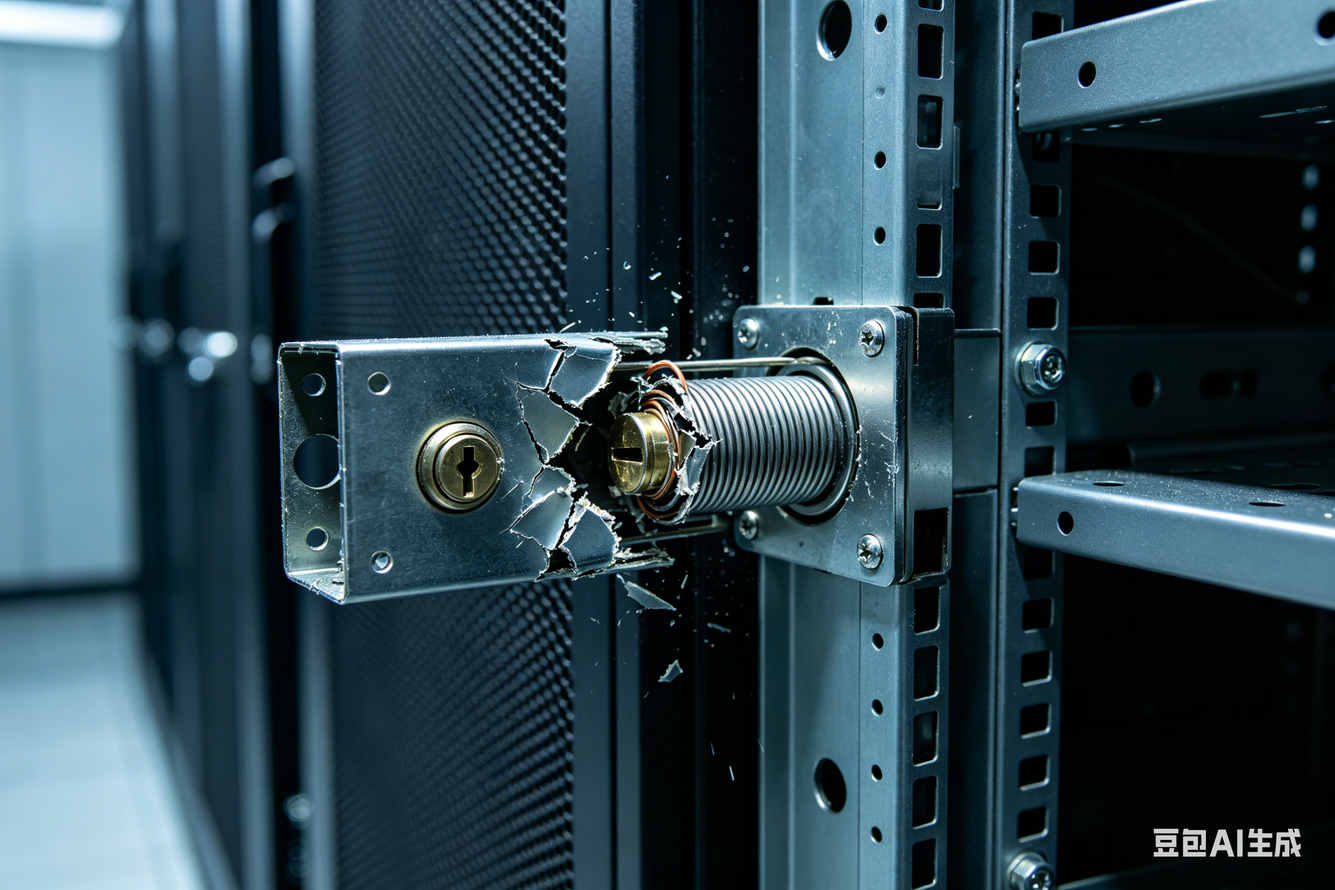BadLock: (526, 348, 718, 578)
